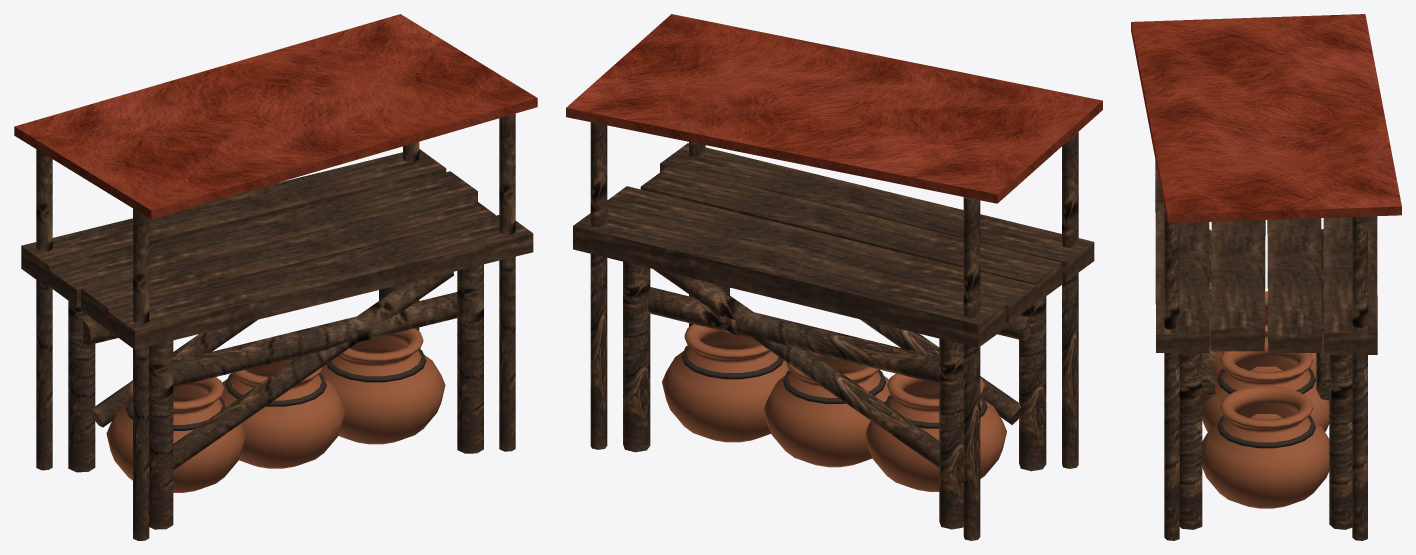
The model's file is stall.glb.
3 renders of one model, left to right at view 1: azimuth 30°, elevation 25°; view 2: azimuth 150°, elevation 25°; view 3: azimuth 270°, elevation 25°, orthographic. The views are drawn at different scales.
Parts seen in each view (by area): view 1: part_0, part_1, part_2, part_3; view 2: part_0, part_1, part_2, part_3; view 3: part_1, part_0, part_2, part_3.
Boxes of the visible parts, bbox=[...] form: part_0: bbox=[21, 113, 533, 540]; part_1: bbox=[14, 14, 537, 219]; part_2: bbox=[106, 328, 445, 492]; part_3: bbox=[125, 342, 426, 430]; part_0: bbox=[573, 122, 1094, 540]; part_1: bbox=[566, 14, 1102, 203]; part_2: bbox=[662, 324, 1006, 491]; part_3: bbox=[681, 338, 987, 428]; part_1: bbox=[1131, 14, 1401, 223]; part_0: bbox=[1155, 160, 1377, 540]; part_2: bbox=[1202, 291, 1329, 508]; part_3: bbox=[1217, 362, 1315, 448].
Size of the model in its own units: 1.45 by 1.13 by 0.8285.
4 materials, 2 textured.
